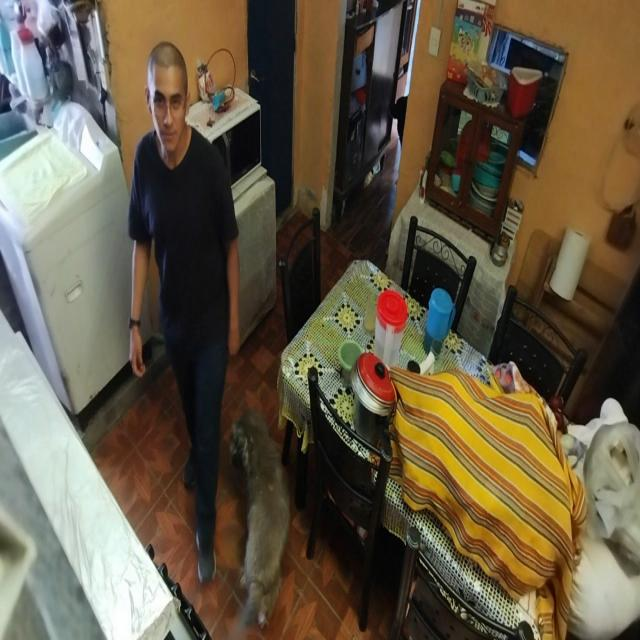adult: (127, 41, 241, 582)
